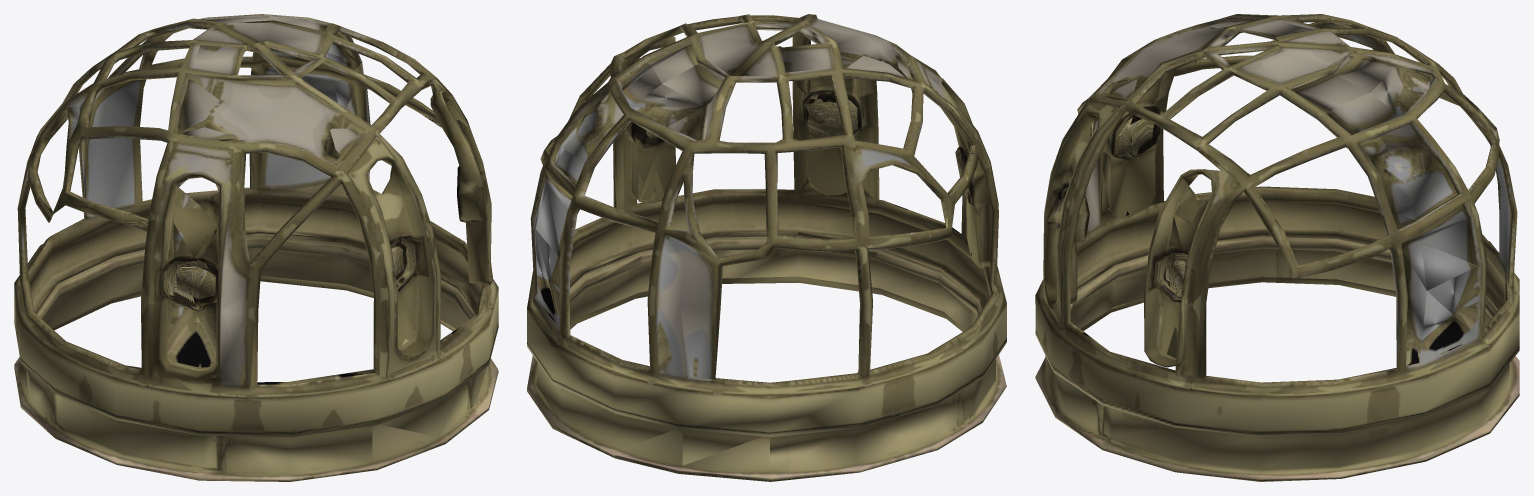
File: topturret_ng.glb
3 renders of one model, left to right at view 1: azimuth 30°, elevation 25°; view 2: azimuth 150°, elevation 25°; view 3: azimuth 270°, elevation 25°, orthographic.
Parts seen in each view (by area): view 1: tripo_node_52075941-4757-48ab-bea5-fbc8a; view 2: tripo_node_52075941-4757-48ab-bea5-fbc8a; view 3: tripo_node_52075941-4757-48ab-bea5-fbc8a.
Boxes of the visible parts, <box> form: tripo_node_52075941-4757-48ab-bea5-fbc8a: <box>14,14,498,481</box>; tripo_node_52075941-4757-48ab-bea5-fbc8a: <box>527,14,1006,481</box>; tripo_node_52075941-4757-48ab-bea5-fbc8a: <box>1035,14,1519,481</box>.
Bounding box in the file's own units: 0.9911 × 0.7613 × 0.992.
Materials: 1 (1 with a texture image).
